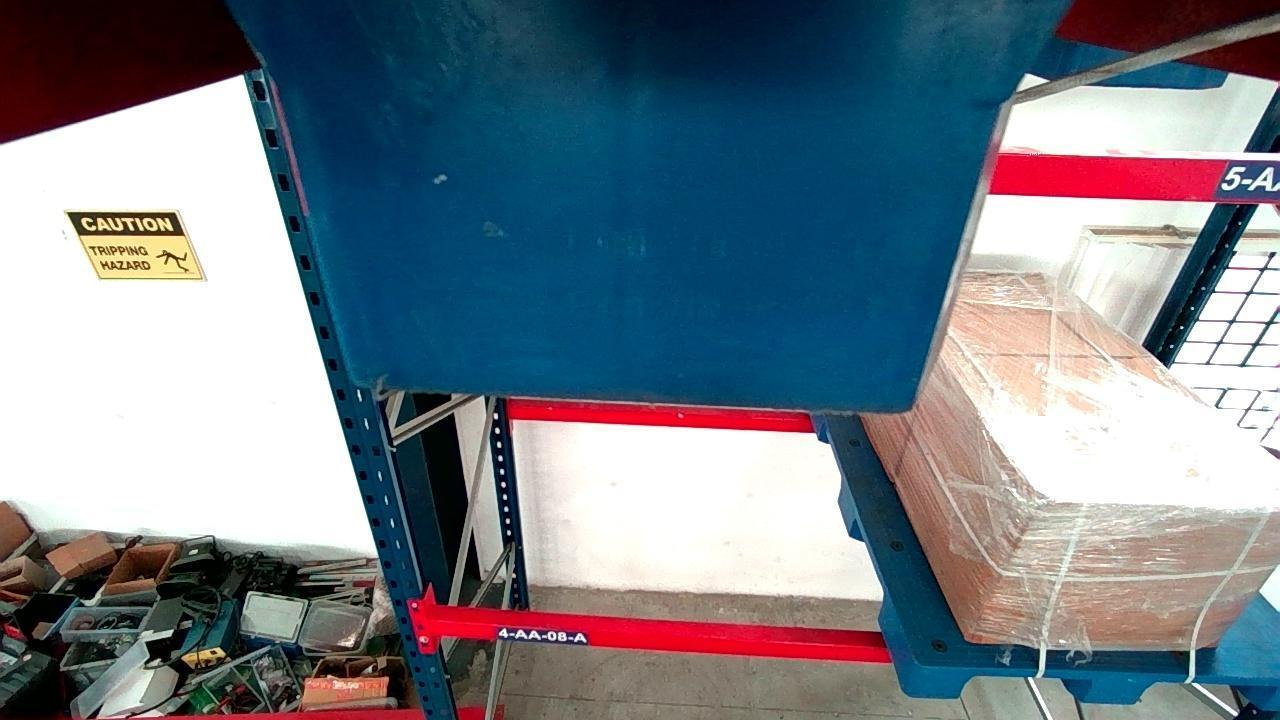h_rack: (430, 612, 891, 662), (988, 156, 1279, 198)
small_pallet: (910, 663, 1280, 712)
